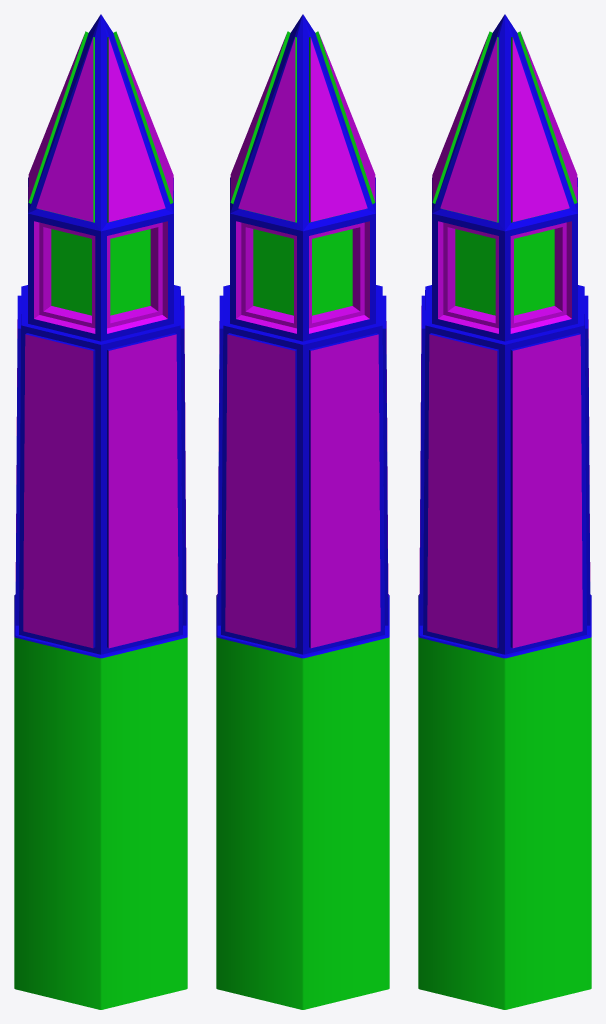
The model's file is TallStructureV002.FBX.
The picture shows the model from 3 angles, left to right: view 1: azimuth 30°, elevation 25°; view 2: azimuth 150°, elevation 25°; view 3: azimuth 270°, elevation 25°; orthographic projection.
Parts seen in each view (by area): view 1: Object115; view 2: Object115; view 3: Object115.
Boxes of the visible parts, box(x1,y1,x2,y2) form: Object115: box(14, 14, 187, 1009); Object115: box(216, 14, 389, 1009); Object115: box(418, 14, 591, 1009).
Bounding box in the file's own units: 250 × 218 × 1322.
